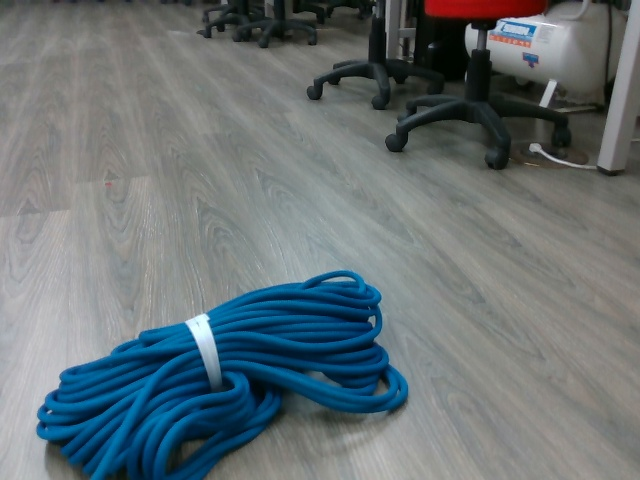rope: (33, 268, 412, 480)
